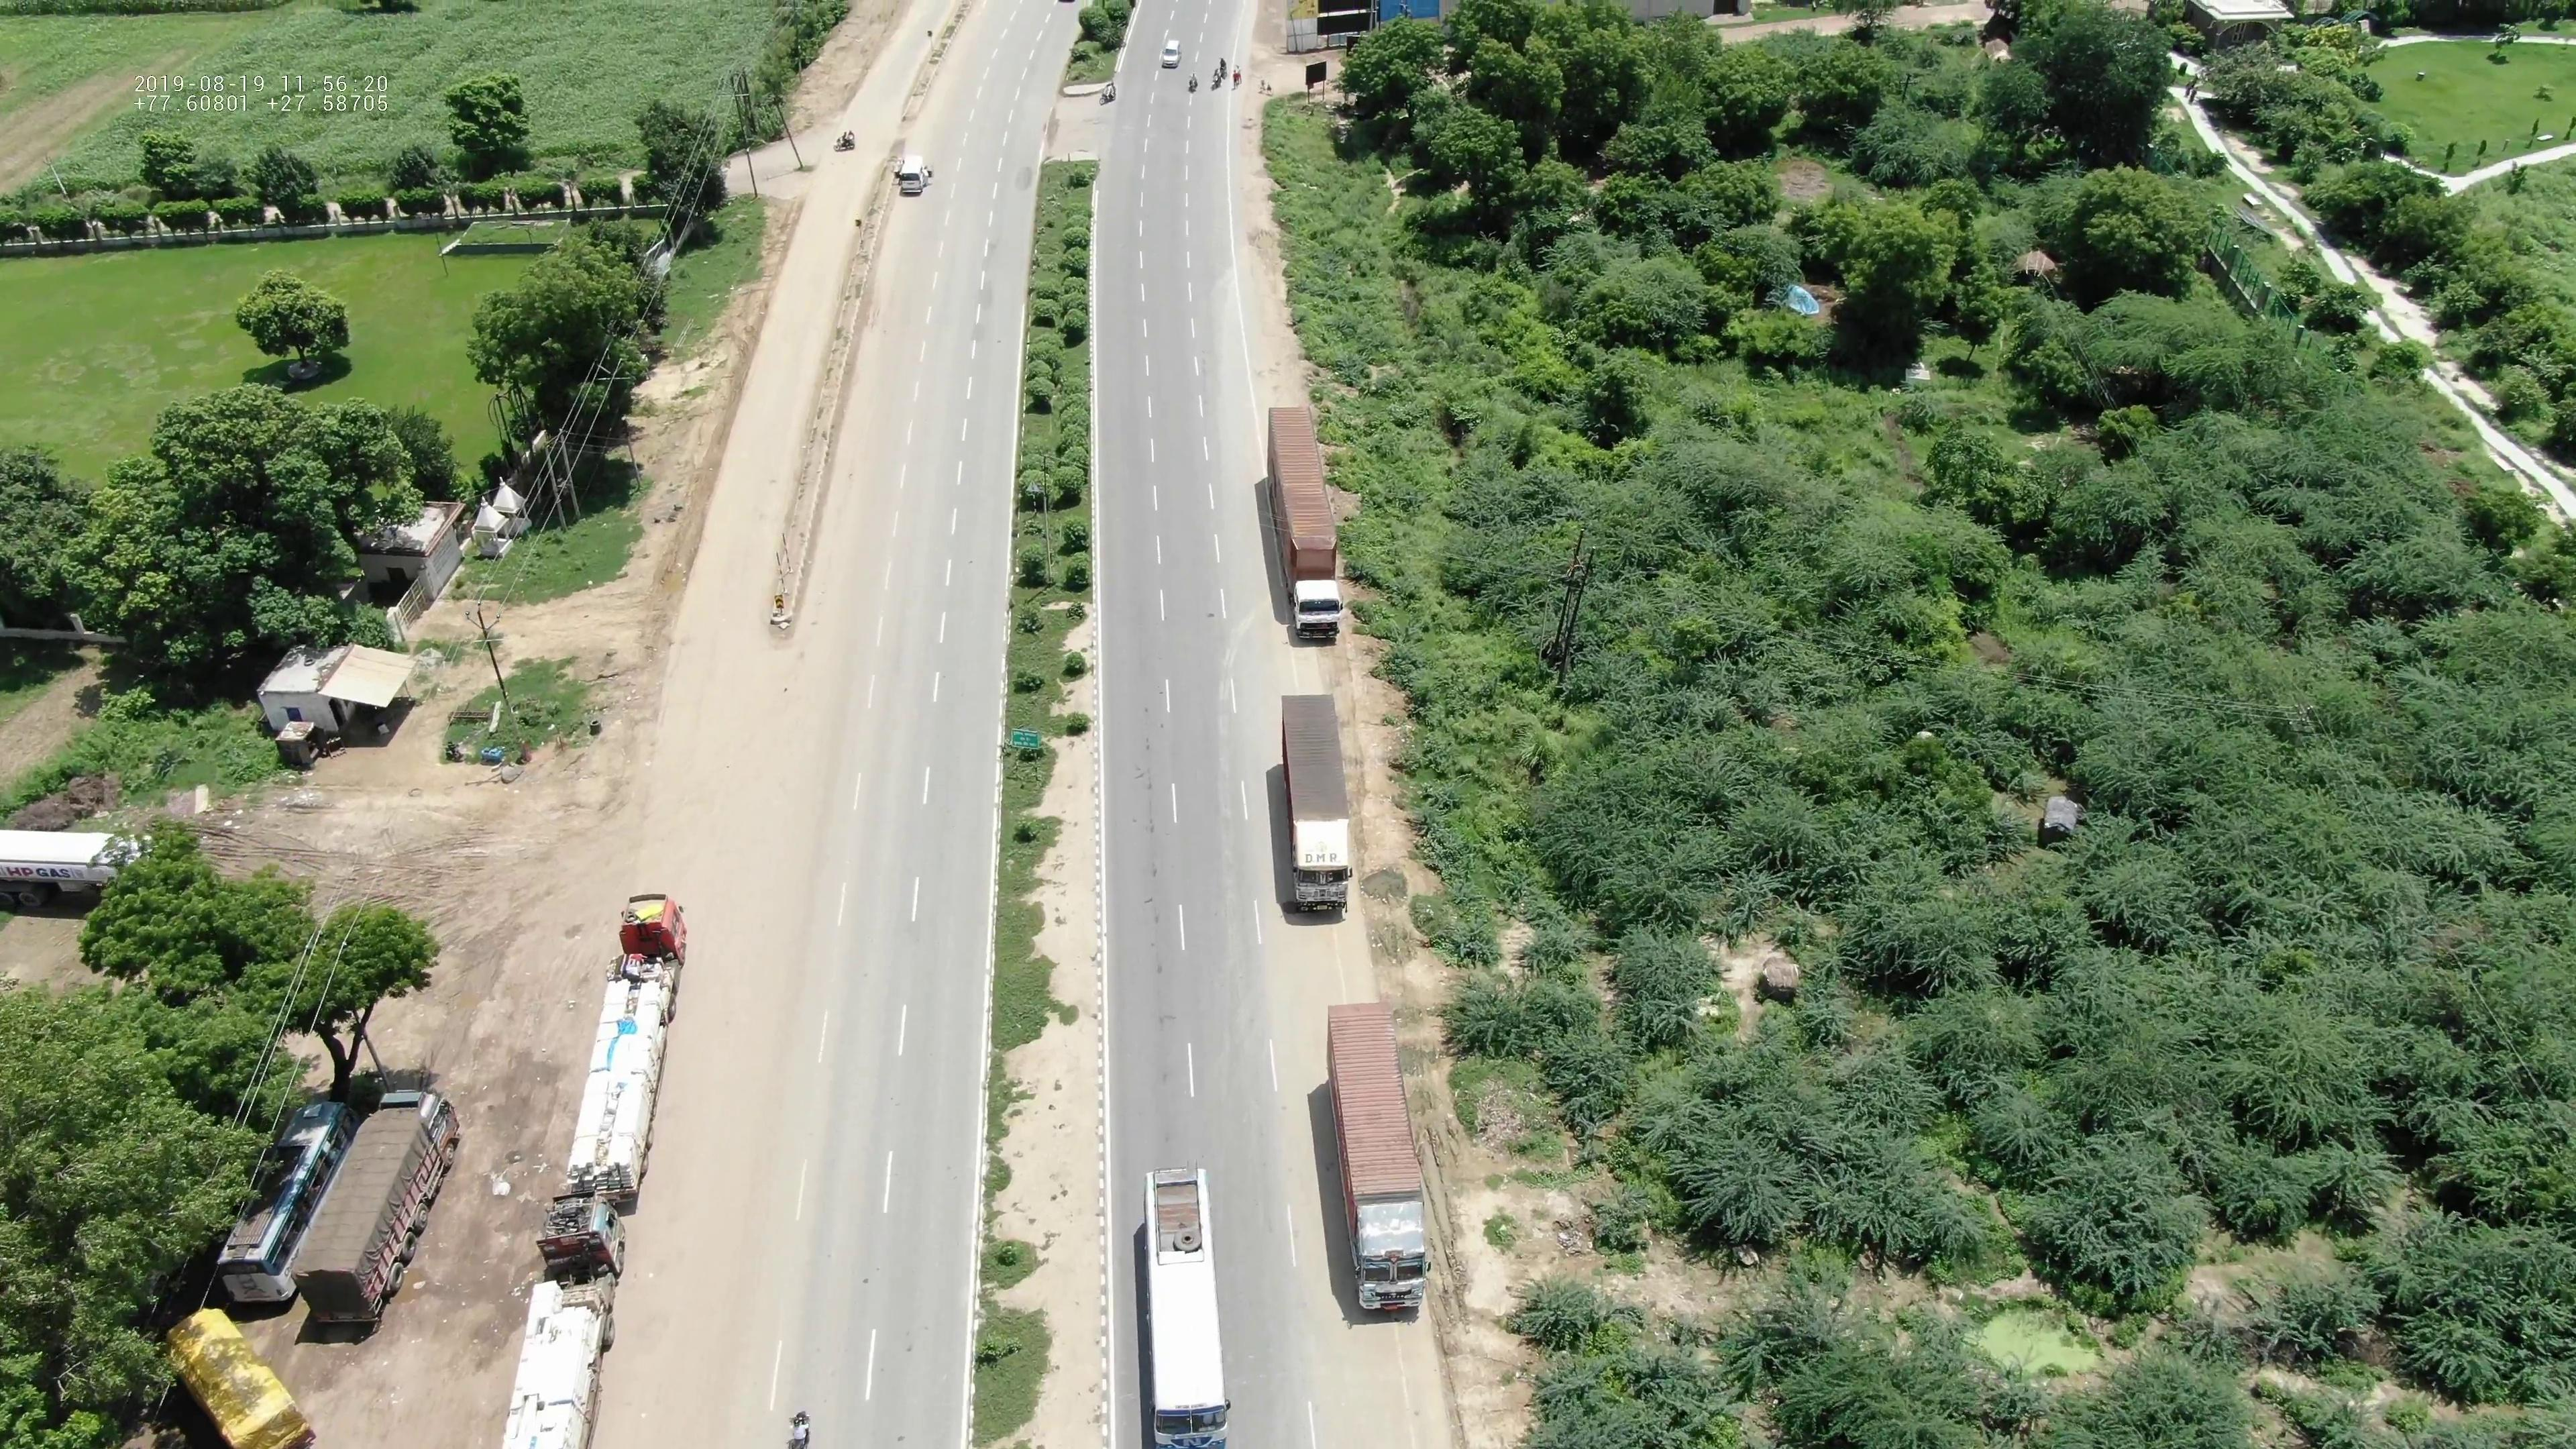Muddy_road: (635, 671, 828, 874)
